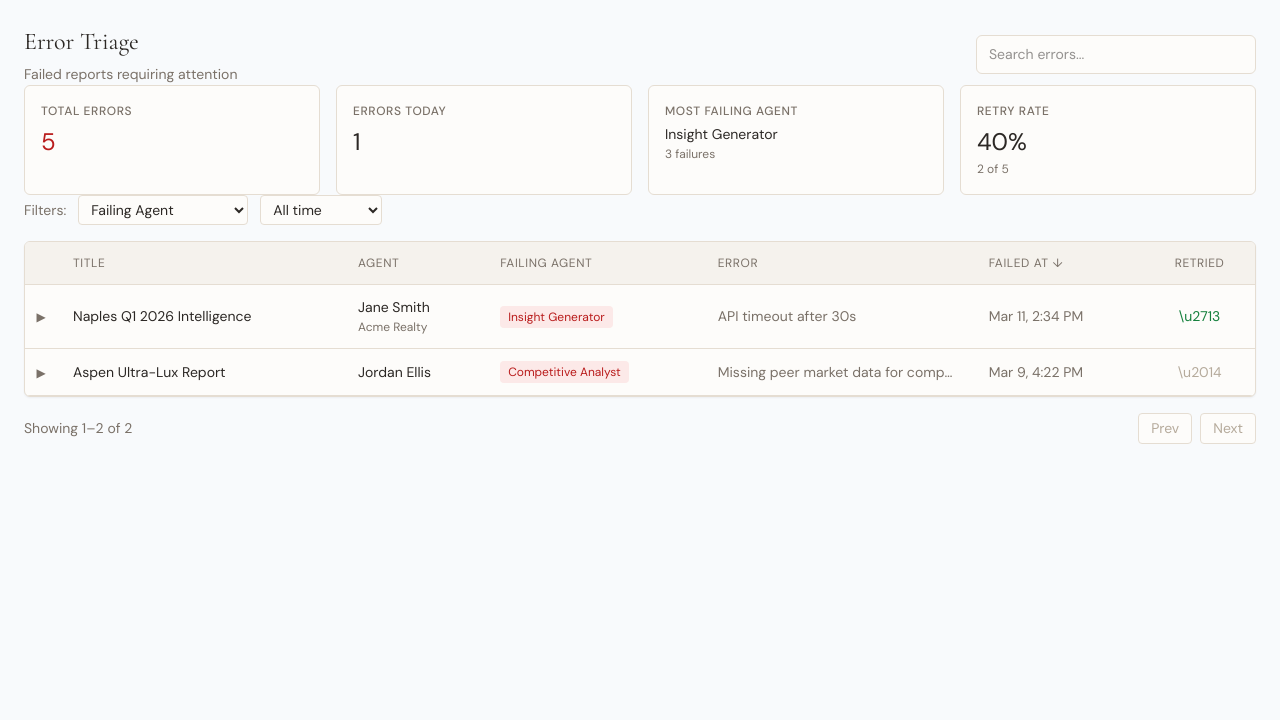
Test: ErrorTriageDashboard › CMP-errortriage-04: should expand row to show error details and link
Expected: the text "Naples Q1 2026 Intelligence" is shown, [57,284,342,348]
// Click the first row's expand toggle cell
Click the text "▶" next to "Naples Q1 2026 Intelligence" at (41, 317), box [36,309,46,325]
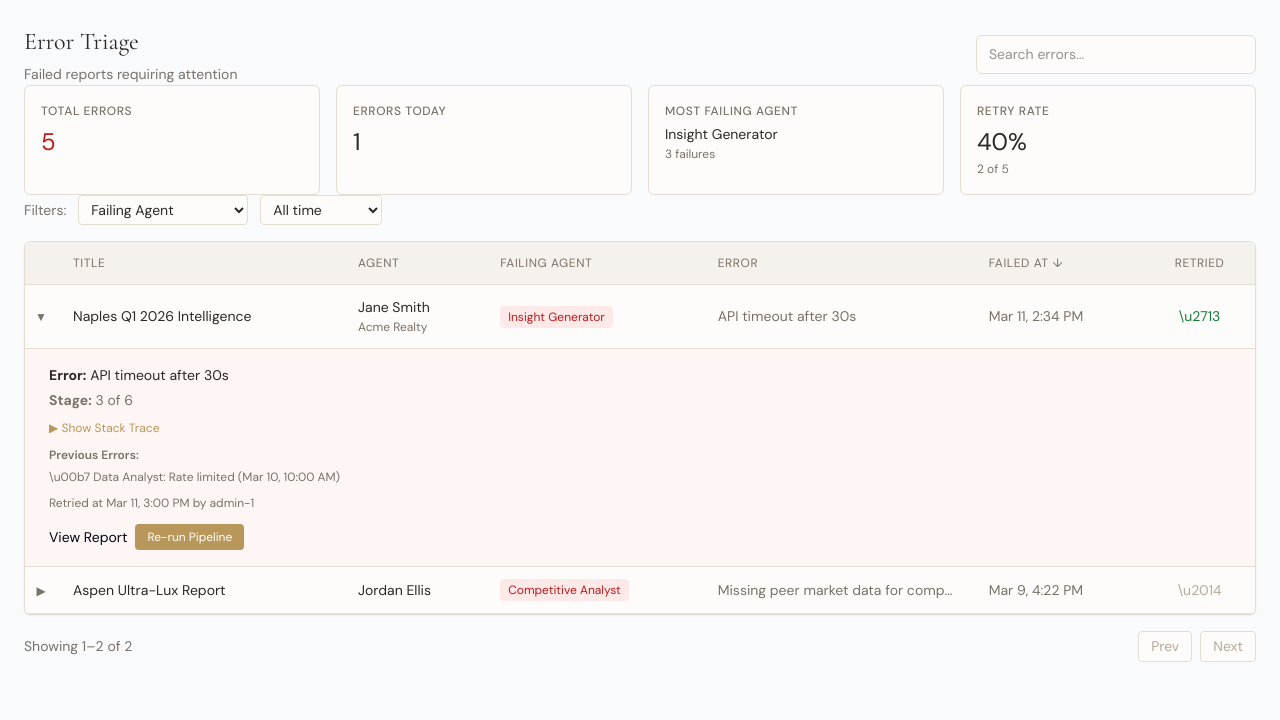
Expected: the link "View Report" is shown, [49,526,127,548]
